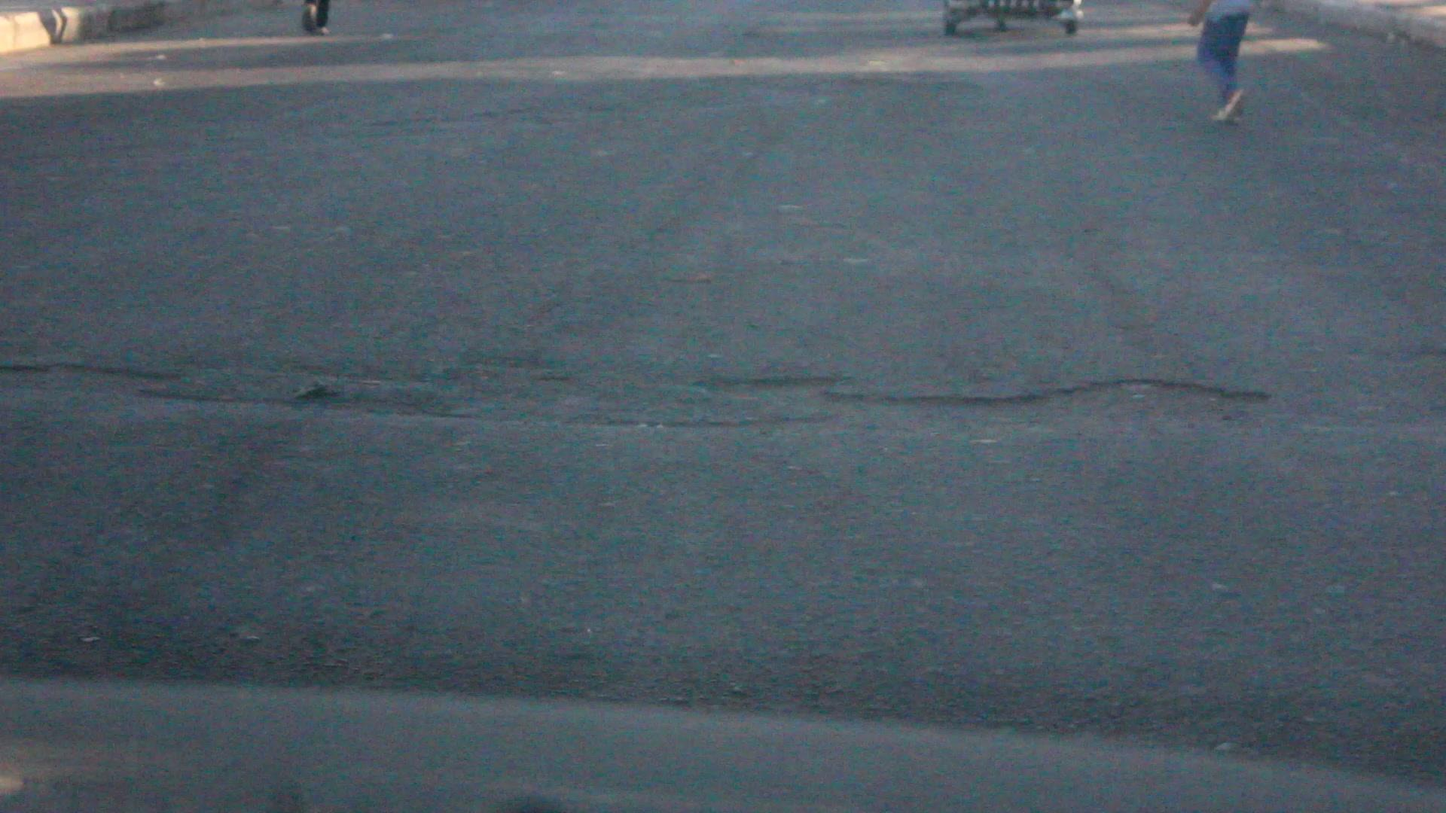Pothole: (738, 367, 1269, 440), (273, 371, 458, 431), (0, 352, 200, 405)
